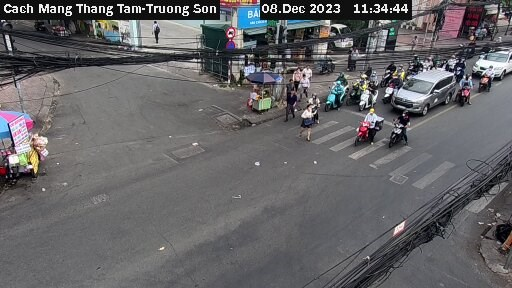car: (395, 70, 456, 115), (473, 45, 512, 79)
motorbike: (348, 110, 387, 152), (391, 112, 419, 150), (301, 94, 330, 120), (325, 79, 349, 108), (458, 71, 478, 103), (354, 82, 376, 109), (479, 63, 499, 91), (383, 79, 404, 103), (379, 61, 399, 84)
